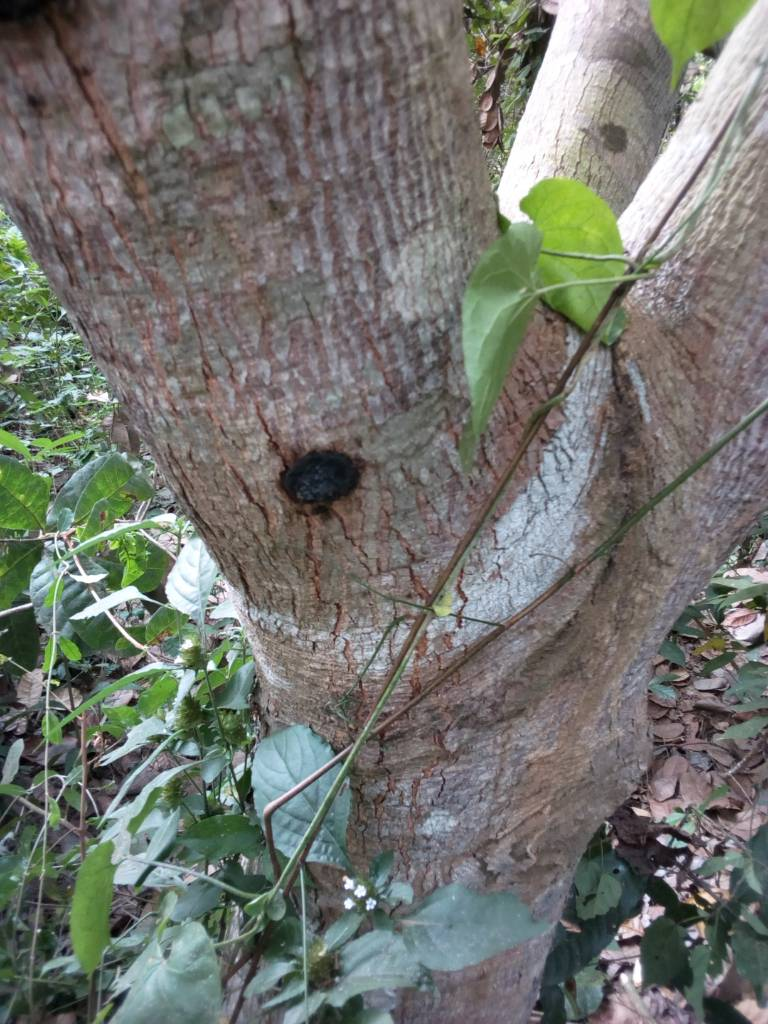Apate terebrans: (244, 401, 430, 529)
